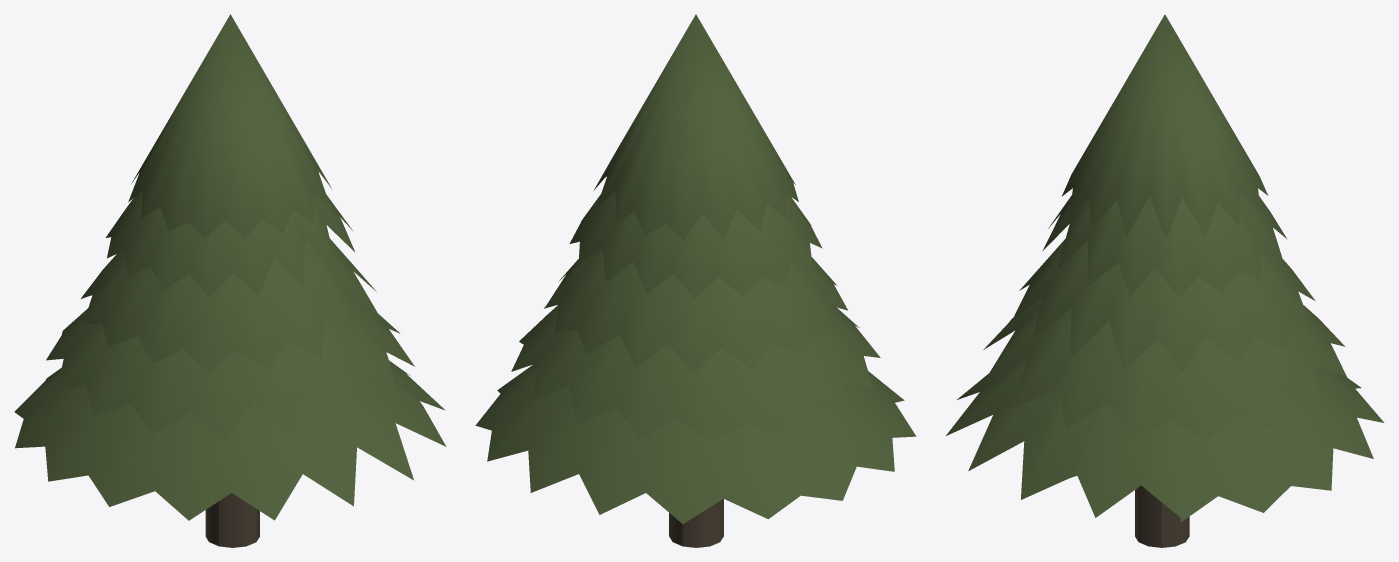
The model's file is Tree D, 1.fbx.
3 renders of one model, left to right at view 1: azimuth 30°, elevation 25°; view 2: azimuth 150°, elevation 25°; view 3: azimuth 270°, elevation 25°, orthographic.
Parts seen in each view (by area): view 1: Cylinder.001; view 2: Cylinder.001; view 3: Cylinder.001.
Boxes of the visible parts, left/top/right/bottom form: Cylinder.001: left=14, top=14, right=446, bottom=547; Cylinder.001: left=475, top=14, right=916, bottom=547; Cylinder.001: left=946, top=14, right=1384, bottom=547.
Size of the model in its own units: 724 by 949 by 724.
